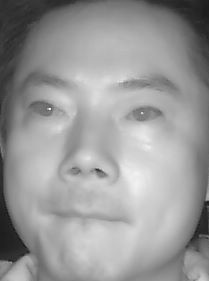eye: (122, 101, 167, 130), (27, 96, 70, 123)
mouth: (41, 194, 133, 238)
